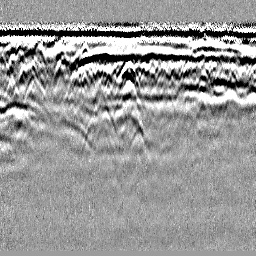cavity: (116, 58, 143, 92)
